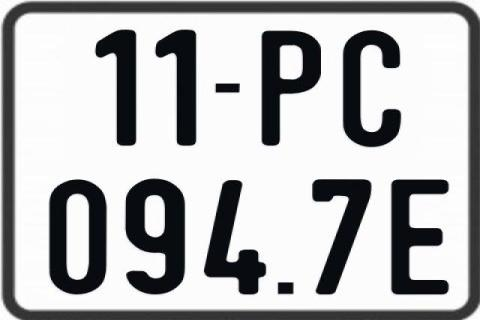0: (125, 179, 191, 299), (312, 177, 375, 297), (46, 180, 110, 296), (203, 179, 265, 295), (152, 27, 193, 148), (95, 28, 137, 146)
C: (342, 30, 403, 150)
E: (390, 178, 448, 294)
P: (260, 29, 322, 147)
